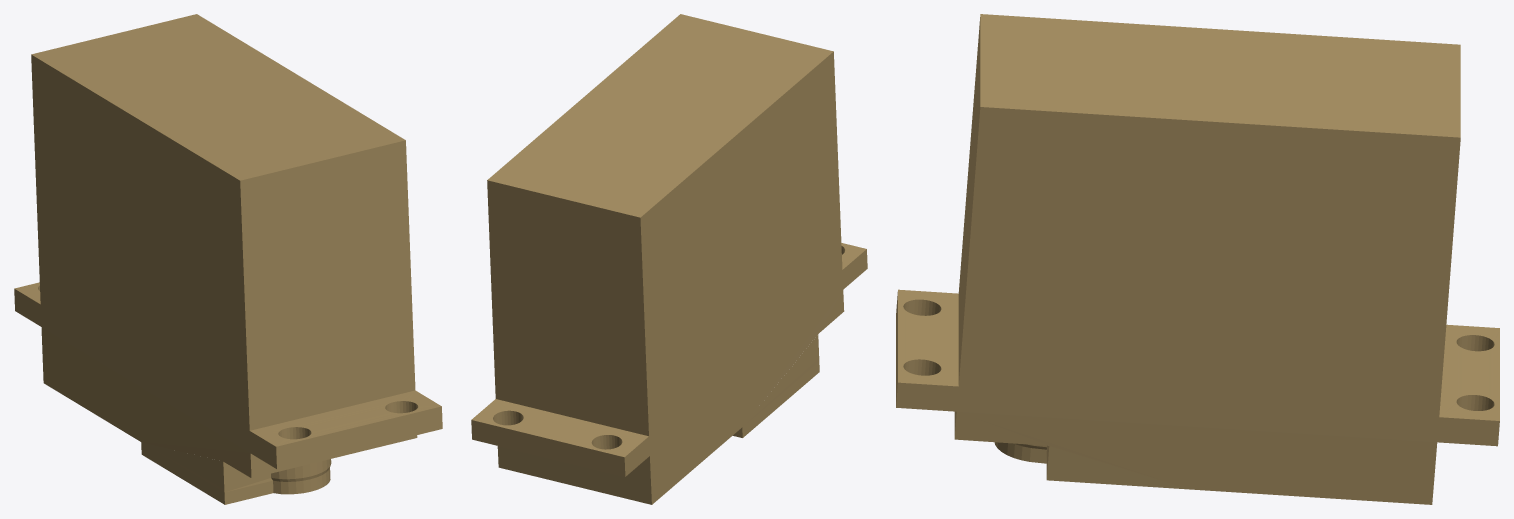
File: left_shoulder_y_link_visual_1.obj.full.glb
3 views of the same model, side by side, from view 1: azimuth 30°, elevation 25°; view 2: azimuth 150°, elevation 25°; view 3: azimuth 270°, elevation 25° (orthographic). The views are drawn at different scales.
Size of the model in its own units: 0.2829 by 0.5644 by 0.7761.
